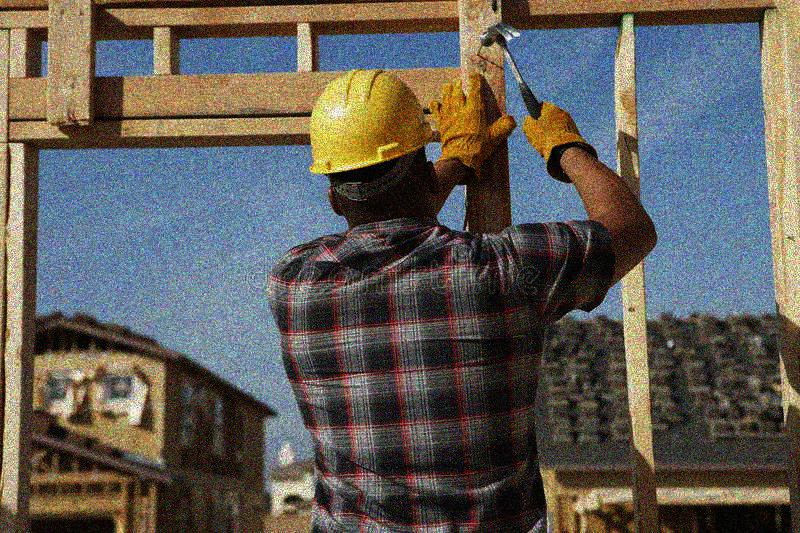helmet: (308, 66, 440, 232)
